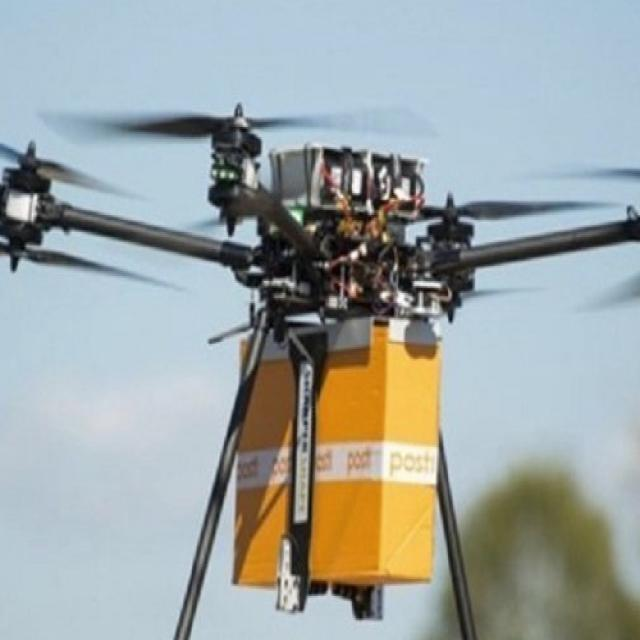drone: (0, 76, 640, 406)
